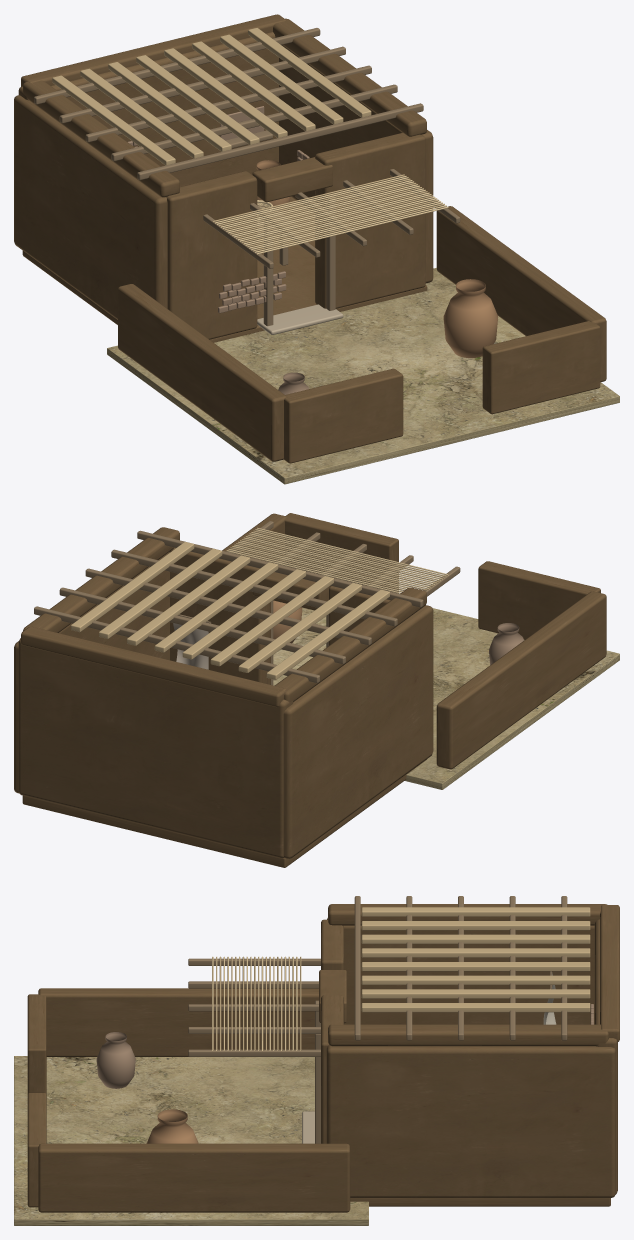
Rendered from horeb_egypt_house_hero_pilot.glb.
3 renders of one model, top to bottom at view 1: azimuth 30°, elevation 25°; view 2: azimuth 150°, elevation 25°; view 3: azimuth 270°, elevation 25°, orthographic.
Parts seen in each view (by area): view 1: Courtyard_earthen_ground, West_wall, Facade_right_of_open_door, Yard_west_wall, Facade_left_of_open_door, Yard_east_wall, Yard_entrance_west, Yard_entrance_east, Back_wall_thick, East_wall, Room_floor_earthen, Parapet_cap_-3 (+20 smaller); view 2: Back_wall_thick, West_wall, Yard_west_wall, Courtyard_earthen_ground, Parapet_back, Yard_entrance_west, Yard_entrance_east, Facade_right_of_open_door, Parapet_cap_-3, East_wall, Room_floor_earthen, Parapet_cap_3 (+18 smaller); view 3: East_wall, Courtyard_earthen_ground, Yard_east_wall, Yard_west_wall, West_wall, Parapet_cap_3, Parapet_cap_-3, Parapet_back, Roof_reed_bundle_02, Roof_reed_bundle_05, Roof_reed_bundle_00, Roof_reed_bundle_03 (+24 smaller).
Part boxes in pixels (left/top/right/bottom): Courtyard_earthen_ground: left=107, top=268, right=619, bottom=484; West_wall: left=14, top=95, right=167, bottom=319; Facade_right_of_open_door: left=315, top=132, right=425, bottom=308; Yard_west_wall: left=118, top=284, right=286, bottom=461; Facade_left_of_open_door: left=166, top=171, right=257, bottom=339; Yard_east_wall: left=436, top=206, right=606, bottom=382; Yard_entrance_west: left=284, top=368, right=403, bottom=463; Yard_entrance_east: left=482, top=321, right=600, bottom=414; Back_wall_thick: left=18, top=32, right=278, bottom=186; East_wall: left=279, top=45, right=433, bottom=283; Room_floor_earthen: left=22, top=196, right=427, bottom=342; Parapet_cap_-3: left=23, top=80, right=179, bottom=197; Back_wall_thick: left=18, top=638, right=293, bottom=858; West_wall: left=283, top=605, right=433, bottom=858; Yard_west_wall: left=436, top=591, right=606, bottom=769; Courtyard_earthen_ground: left=273, top=607, right=619, bottom=789; Parapet_back: left=21, top=626, right=285, bottom=707; Yard_entrance_west: left=478, top=561, right=600, bottom=639; Yard_entrance_east: left=284, top=513, right=398, bottom=593; Facade_right_of_open_door: left=169, top=547, right=270, bottom=684; Parapet_cap_-3: left=274, top=587, right=426, bottom=702; East_wall: left=14, top=552, right=169, bottom=793; Room_floor_earthen: left=22, top=759, right=426, bottom=867; Parapet_cap_3: left=23, top=527, right=179, bottom=632; East_wall: left=326, top=1045, right=615, bottom=1197; Courtyard_earthen_ground: left=14, top=1056, right=368, bottom=1225; Yard_east_wall: left=38, top=1143, right=350, bottom=1212; Yard_west_wall: left=38, top=988, right=318, bottom=1056; West_wall: left=327, top=918, right=594, bottom=1024; Parapet_cap_3: left=328, top=1024, right=608, bottom=1046; Parapet_cap_-3: left=328, top=904, right=607, bottom=925; Parapet_back: left=600, top=905, right=619, bottom=1041; Roof_reed_bundle_02: left=361, top=934, right=590, bottom=943; Roof_reed_bundle_05: left=361, top=975, right=590, bottom=984; Roof_reed_bundle_00: left=361, top=907, right=590, bottom=916; Roof_reed_bundle_03: left=361, top=948, right=590, bottom=957.
Size of the model in its own units: 7.2 by 3.75 by 11.27.
Materials: 10 (2 with a texture image).
